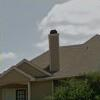Chimney: (44, 23, 65, 74)
